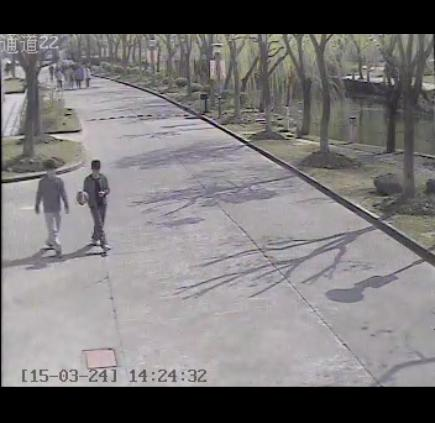person: (75, 142, 118, 260), (28, 157, 71, 263), (82, 62, 97, 88)
